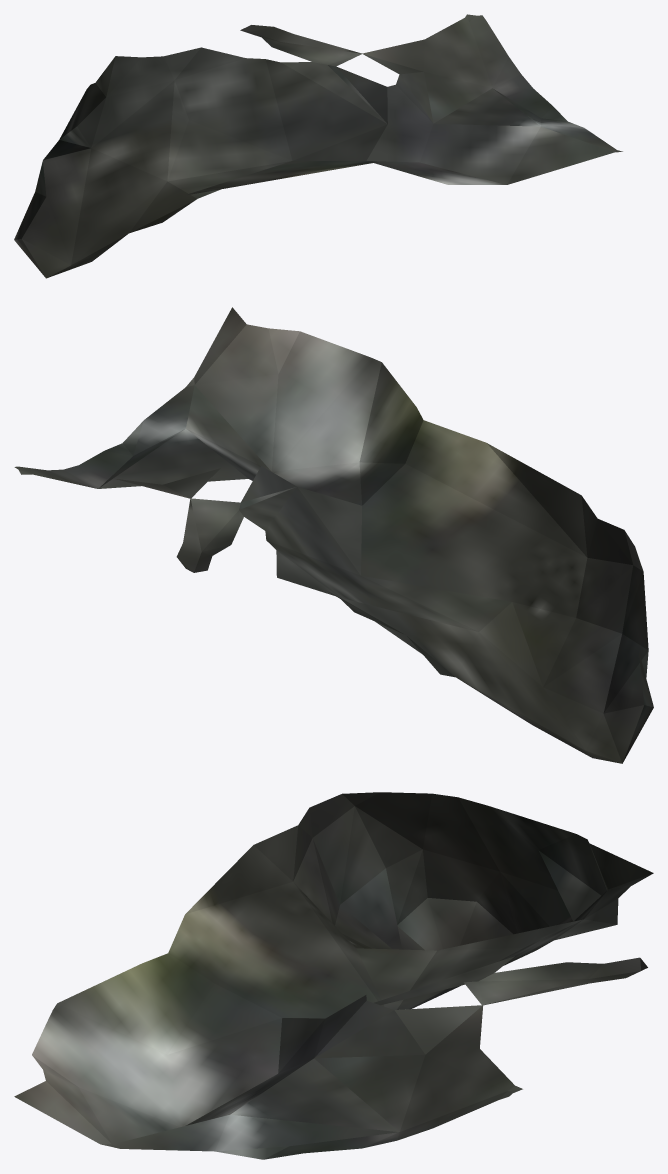
3 views of the same model, one above another, from view 1: azimuth 30°, elevation 25°; view 2: azimuth 150°, elevation 25°; view 3: azimuth 270°, elevation 25° (orthographic). The views are drawn at different scales.
Bounding box in the file's own units: 6.39 × 1.74 × 5.11.
Materials: 1 (1 with a texture image).
